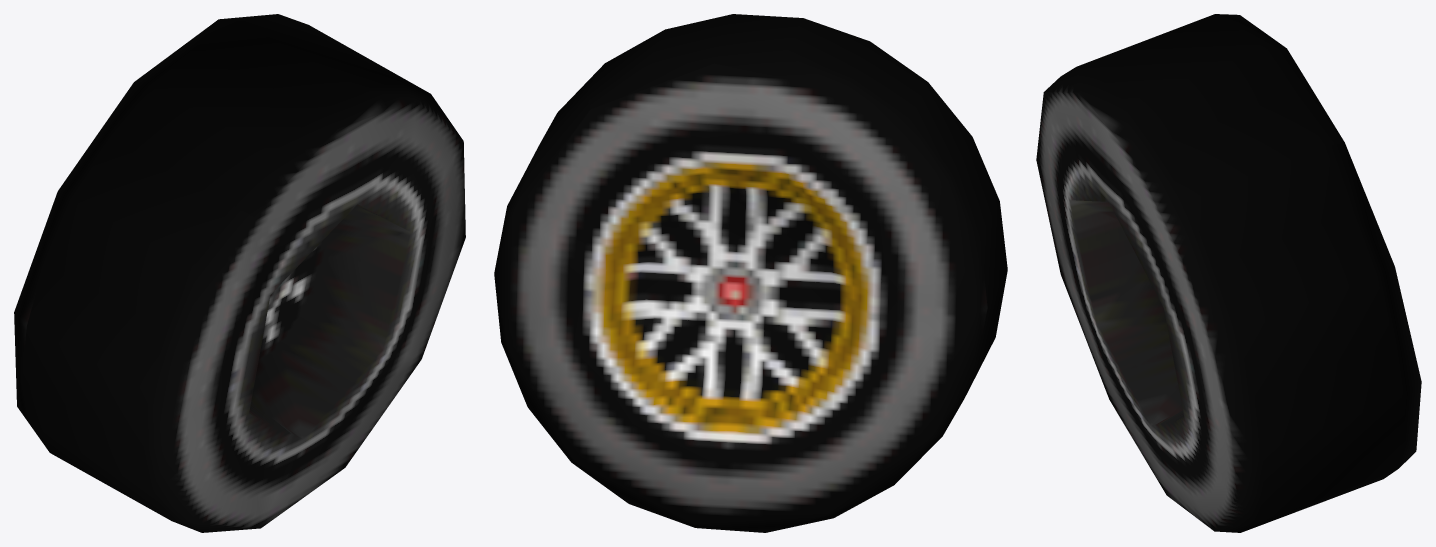
Rendered from icon.ico.obj.
3 renders of one model, left to right at view 1: azimuth 30°, elevation 25°; view 2: azimuth 150°, elevation 25°; view 3: azimuth 270°, elevation 25°, orthographic.
Size of the model in its own units: 3.36 by 3.33 by 2.5.
Materials: 1 (1 with a texture image).
